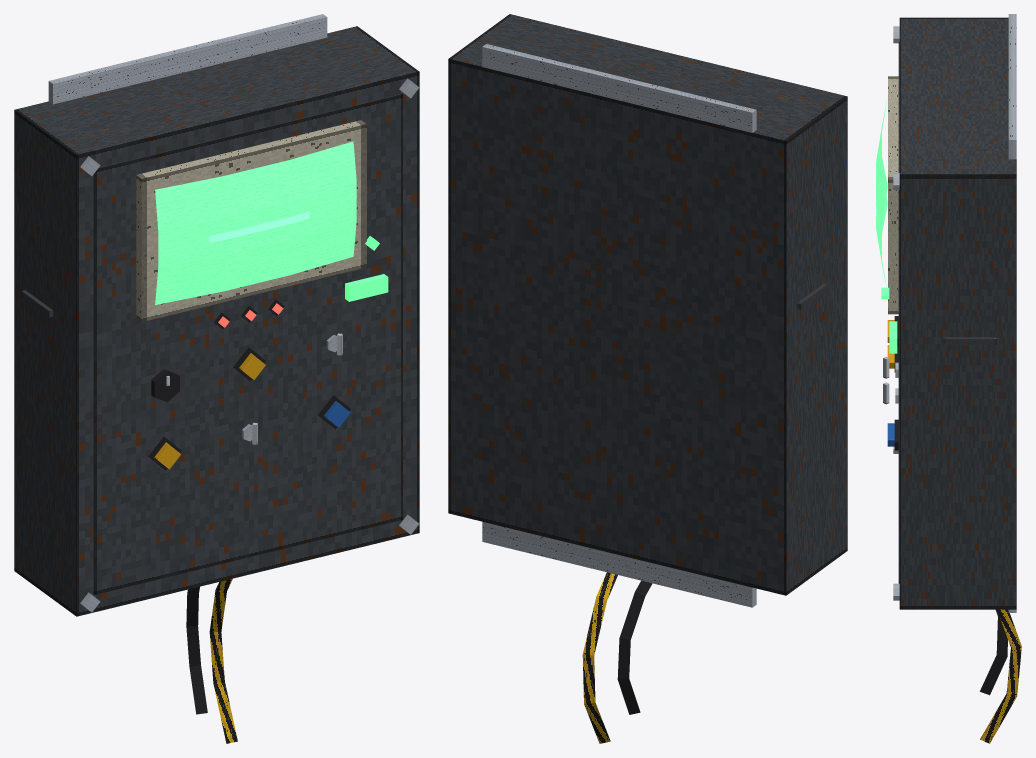
Rendered from electrical_panel.glb.
3 views of the same model, side by side, from view 1: azimuth 30°, elevation 25°; view 2: azimuth 150°, elevation 25°; view 3: azimuth 270°, elevation 25° (orthographic). The views are drawn at different scales.
Visible parts, largest first — view 1: electrical_panel; view 2: electrical_panel; view 3: electrical_panel.
Boxes of the visible parts, x1,y1,x2,y2 form: electrical_panel: (14,14,419,743); electrical_panel: (448,14,847,743); electrical_panel: (876,14,1021,743).
Size of the model in its own units: 0.716 by 1.35 by 0.2739.
14 materials, 14 textured.
